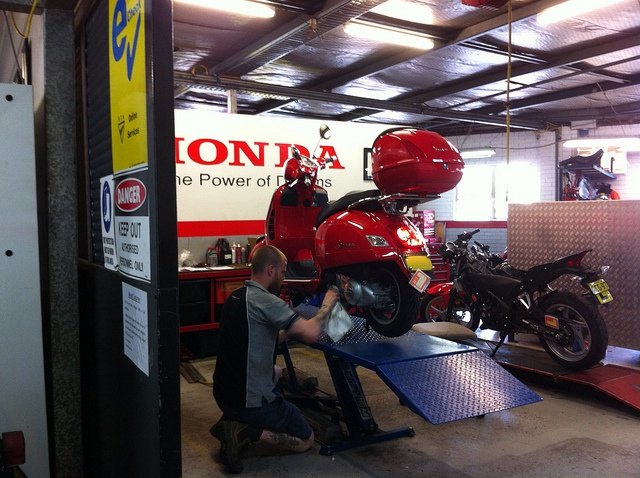non-vehicle: (258, 124, 436, 333), (432, 226, 616, 371)
